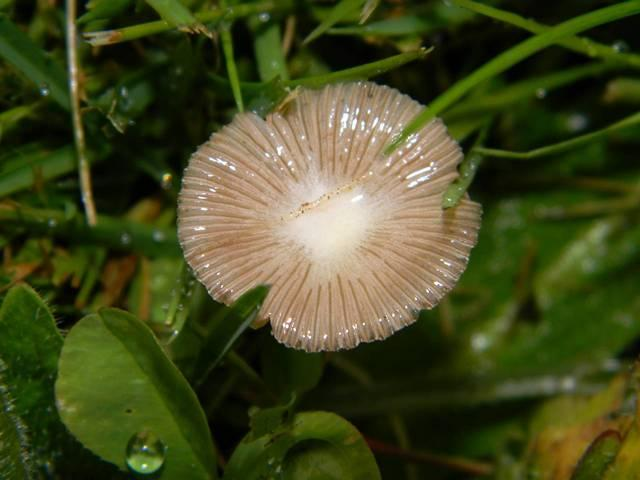Edible Mushroom: (175, 78, 483, 353)
